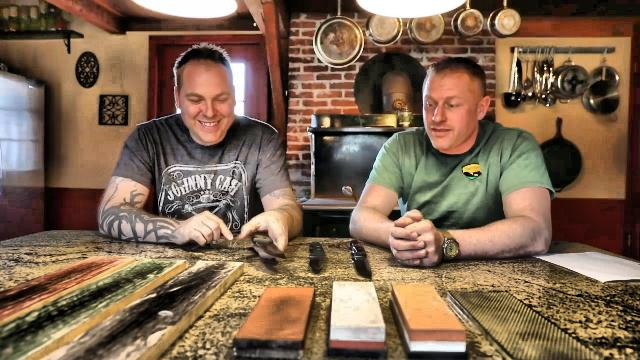knife: (240, 212, 292, 268)
